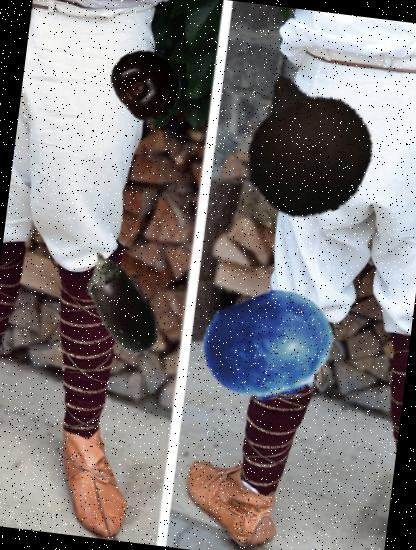Cherry: (106, 44, 186, 125)
Eggplant: (55, 241, 182, 368)
Huckleberry: (195, 274, 343, 422)
Pear: (223, 63, 386, 226)
